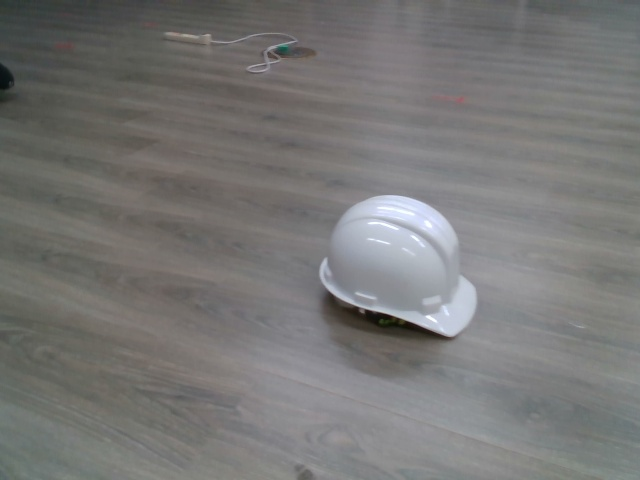helmet: (316, 191, 479, 340)
